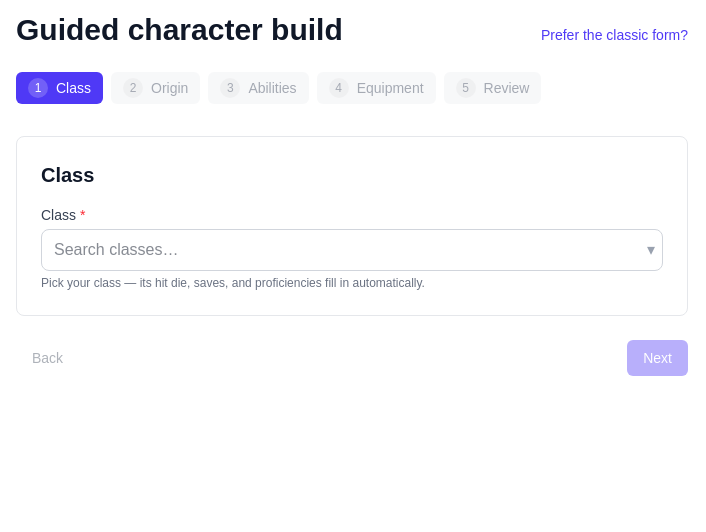
it: GuidedCharacterPage — wizard shell › gates Next until a class is chosen
Expected: the button "Next" is disabled, x1=627 y1=340 x2=688 y2=376
In the dropdown labelled "Class *": (352, 250) x1=41 y1=229 x2=663 y2=271, type "Fighter"
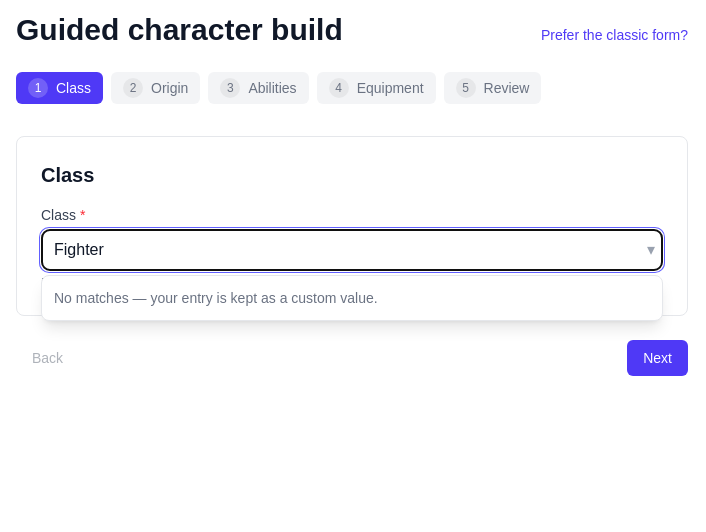
Expected: the button "Next" is enabled
Click the button "Next": (658, 358) x1=627 y1=340 x2=688 y2=376
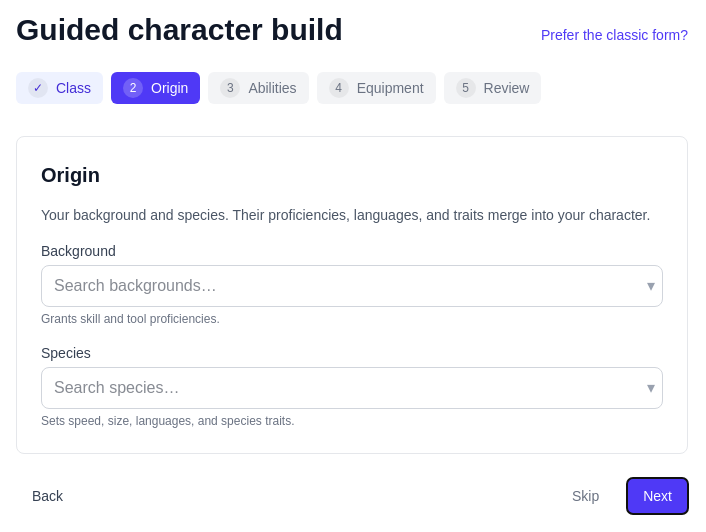
Expected: the heading "Origin" is shown, x1=41 y1=164 x2=100 y2=186
